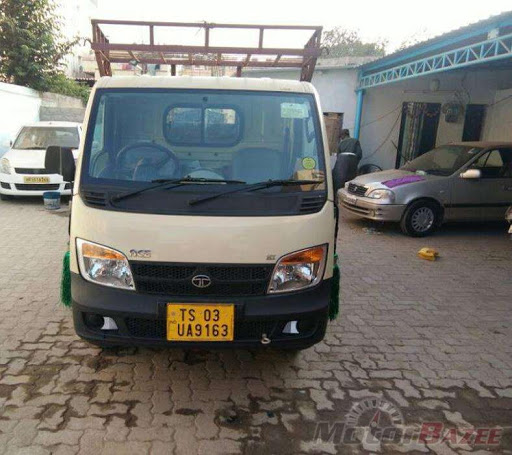doublelinenumberplate: (164, 301, 235, 342)
